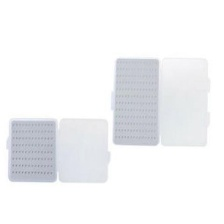foam_box: (106, 49, 214, 151), (1, 113, 115, 186)
